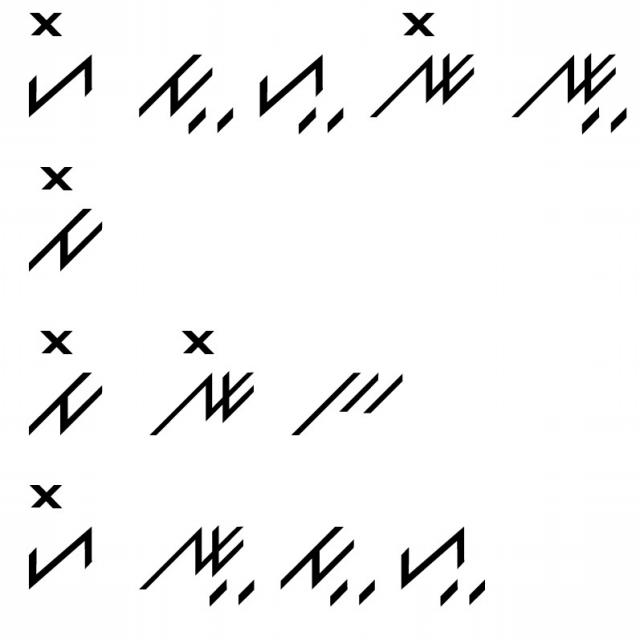hah: (391, 524, 492, 614), (256, 40, 350, 136)
ho: (19, 7, 100, 129), (15, 481, 99, 591)
mbah: (274, 513, 380, 614), (123, 45, 238, 136)
mbo: (21, 324, 107, 444), (20, 160, 105, 278)
ndah: (131, 510, 257, 619), (503, 42, 632, 141)
ndo: (366, 7, 482, 131), (145, 321, 262, 443)
